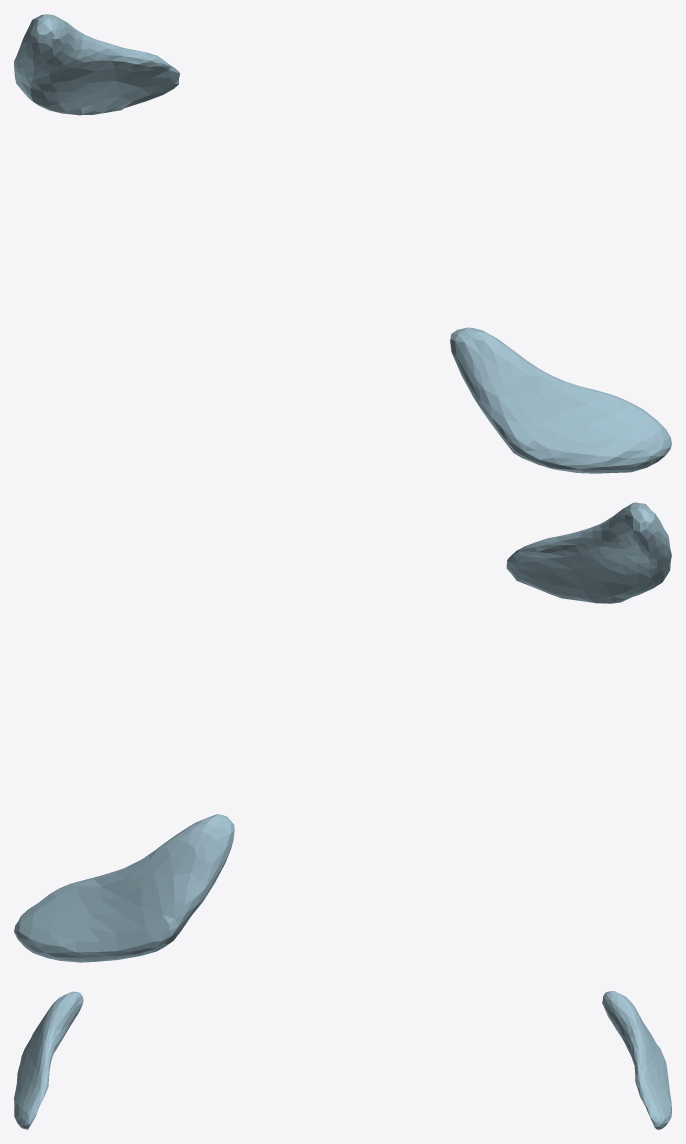
3 views of the same model, one above another, from view 1: azimuth 30°, elevation 25°; view 2: azimuth 150°, elevation 25°; view 3: azimuth 270°, elevation 25° (orthographic). The views are drawn at different scales.
Visible parts, largest first — view 1: 544.obj; view 2: 544.obj; view 3: 544.obj.
Boxes of the visible parts, box(x1,y1,x2,y2) form: 544.obj: box(14, 14, 671, 473); 544.obj: box(14, 502, 671, 962); 544.obj: box(14, 991, 671, 1129).
Bounding box in the file's own units: 1311 × 1010 × 6414.
